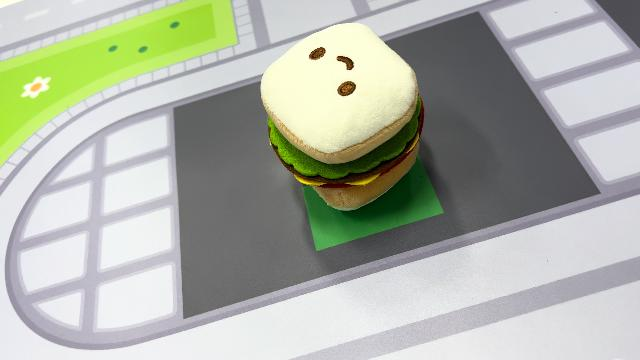sandwich: (257, 20, 428, 212)
